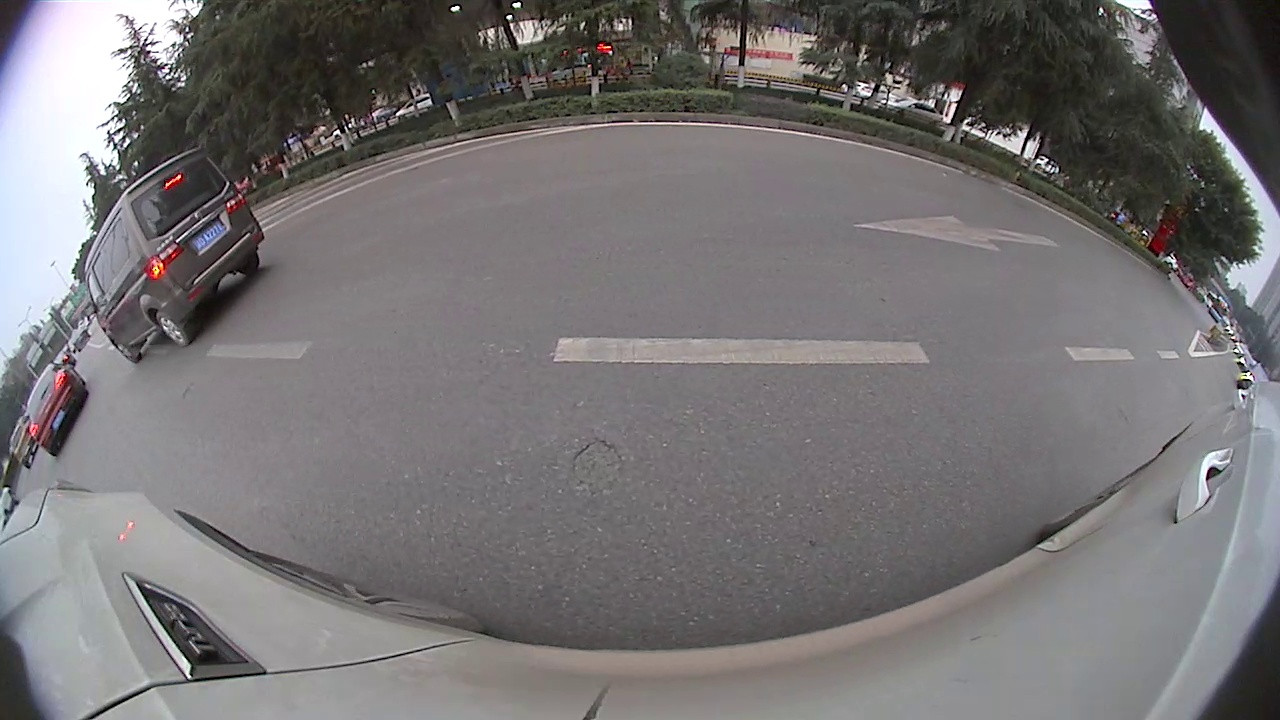car: (82, 143, 266, 362), (23, 357, 91, 458)
front: (110, 336, 143, 361)
rear: (154, 310, 191, 347)
